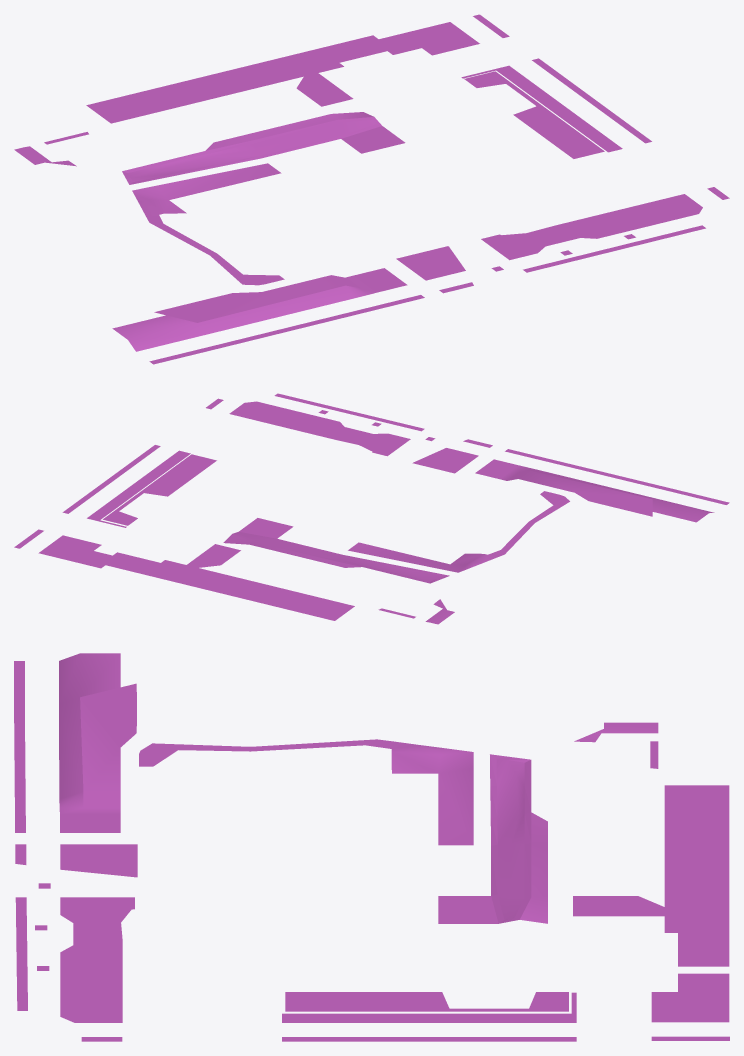
The picture shows the model from 3 angles, top to bottom: view 1: azimuth 30°, elevation 25°; view 2: azimuth 150°, elevation 25°; view 3: azimuth 270°, elevation 25°; orthographic projection. The views are drawn at different scales.
Visible parts, largest first — view 1: Grama; view 2: Grama; view 3: Grama.
Part boxes in pixels (<box>): Grama: <box>14,14,729,364</box>; Grama: <box>14,393,729,624</box>; Grama: <box>14,653,729,1041</box>.
Bounding box in the file's own units: 665 × 7.27 × 528.
